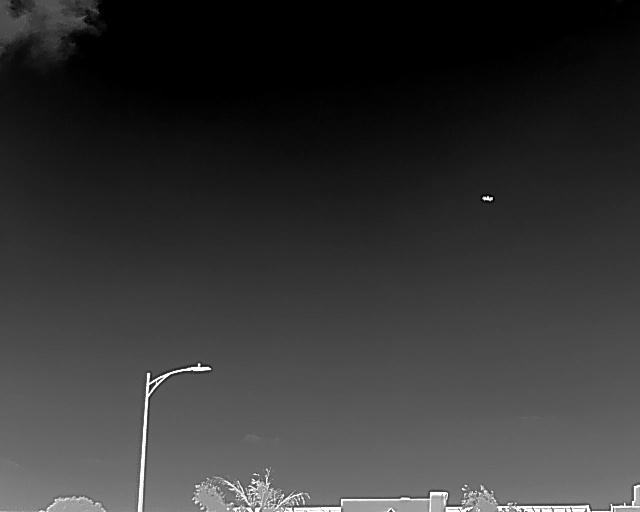fpv-drone: (482, 195, 493, 201)
